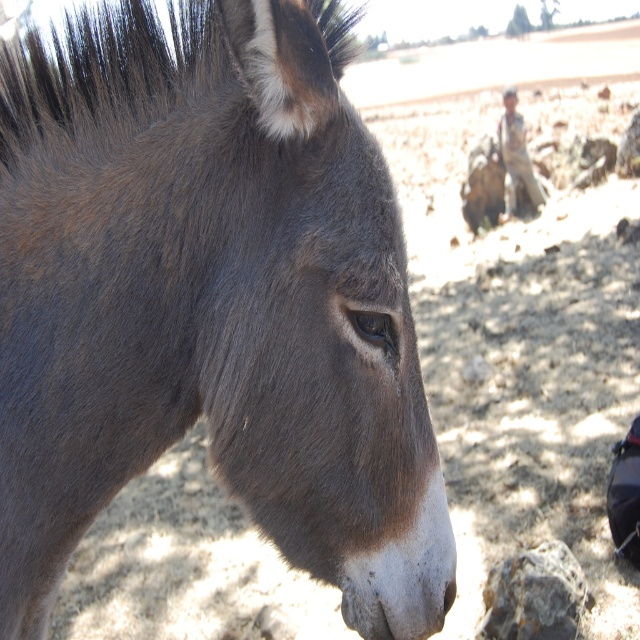Mule: (0, 0, 457, 640)
